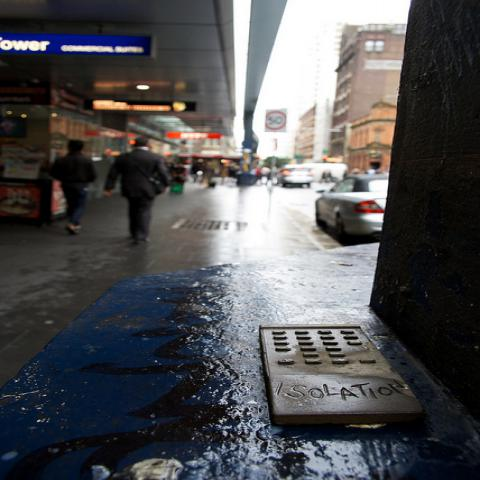car: (313, 174, 391, 246), (276, 166, 314, 189)
